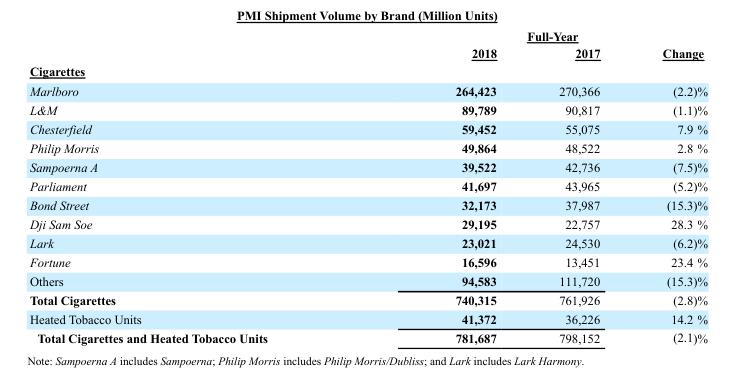table: (28, 28, 706, 344)
table column: (28, 28, 360, 344), (360, 28, 527, 344), (527, 28, 630, 344), (630, 28, 706, 344)
table column header: (28, 28, 706, 61)
table projected row header: (28, 61, 706, 80)
table row: (28, 80, 706, 100), (28, 61, 706, 80), (28, 100, 706, 119), (28, 119, 706, 138), (28, 138, 706, 157), (28, 157, 706, 176), (28, 176, 706, 195), (28, 195, 706, 214), (28, 214, 706, 233), (28, 233, 706, 252), (28, 270, 706, 289), (28, 289, 706, 308), (28, 308, 706, 327), (28, 252, 706, 270), (28, 44, 706, 61), (28, 327, 706, 344), (28, 28, 706, 44)
table spanning cell: (360, 28, 706, 44)
